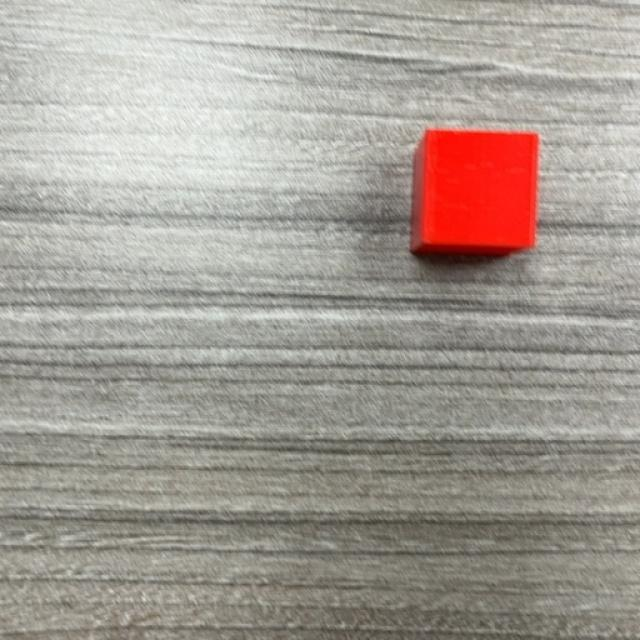Rojo: (411, 129, 544, 258)
